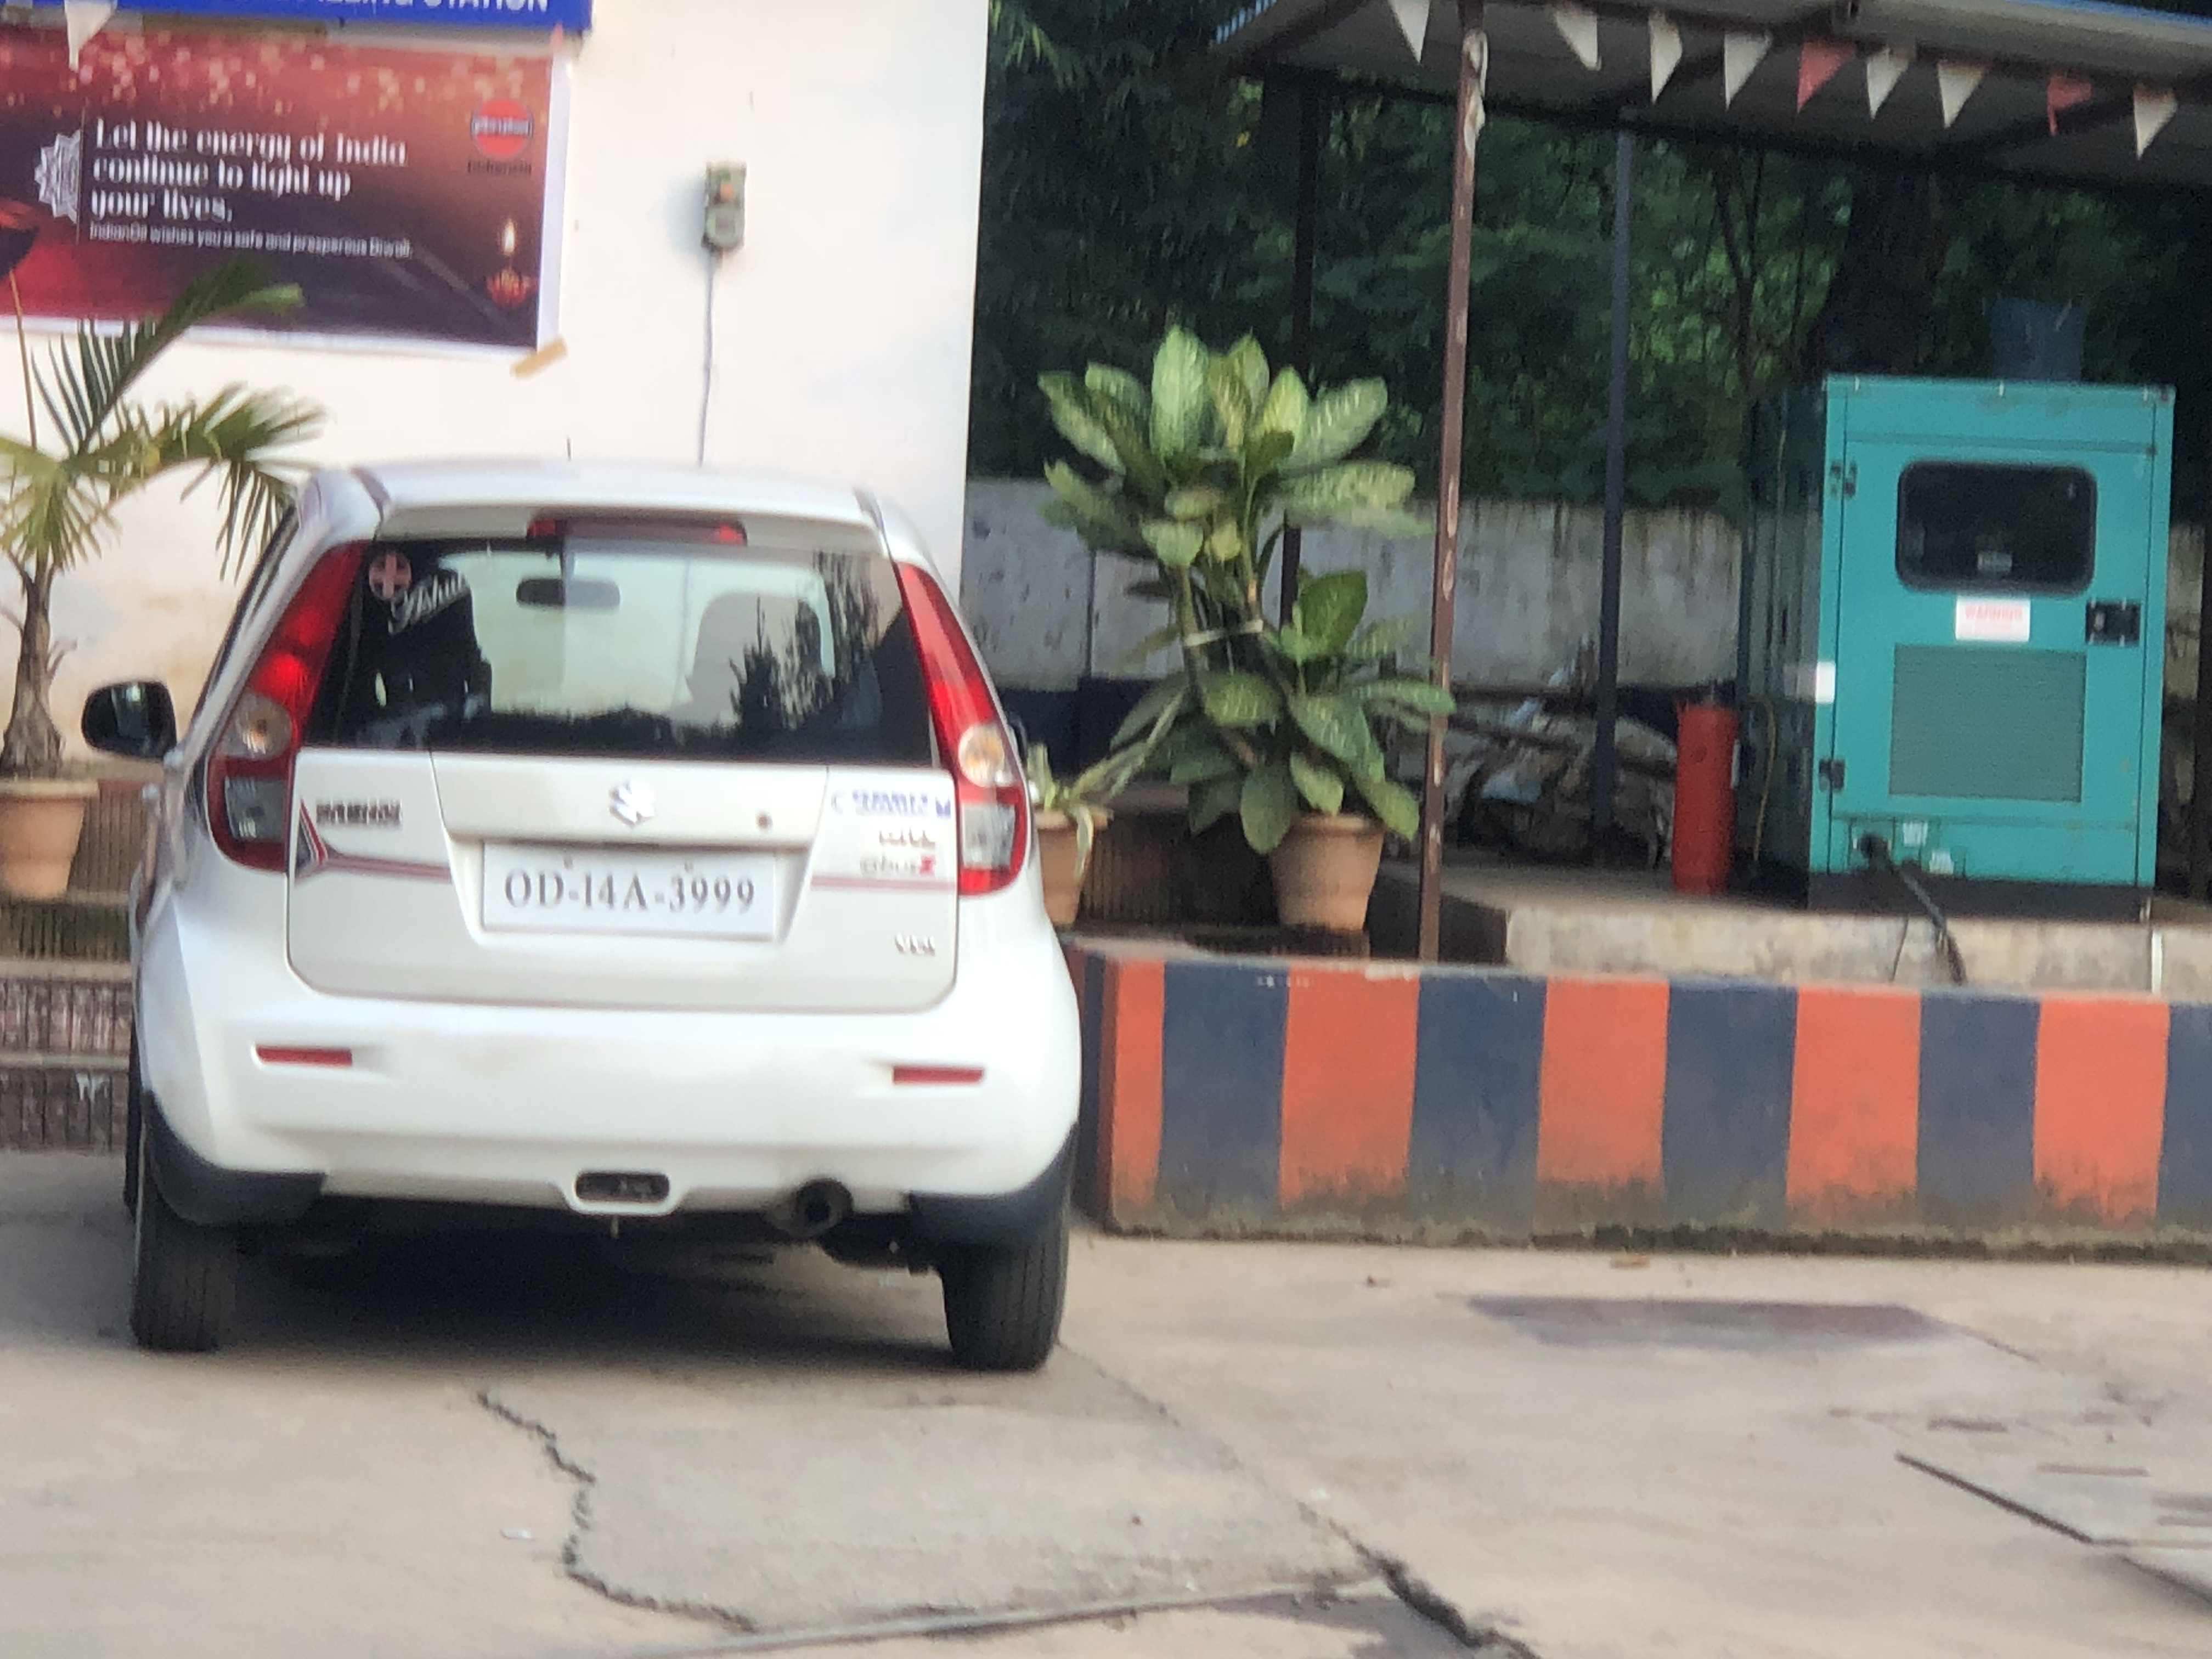licenseplate: (474, 834, 780, 939)
